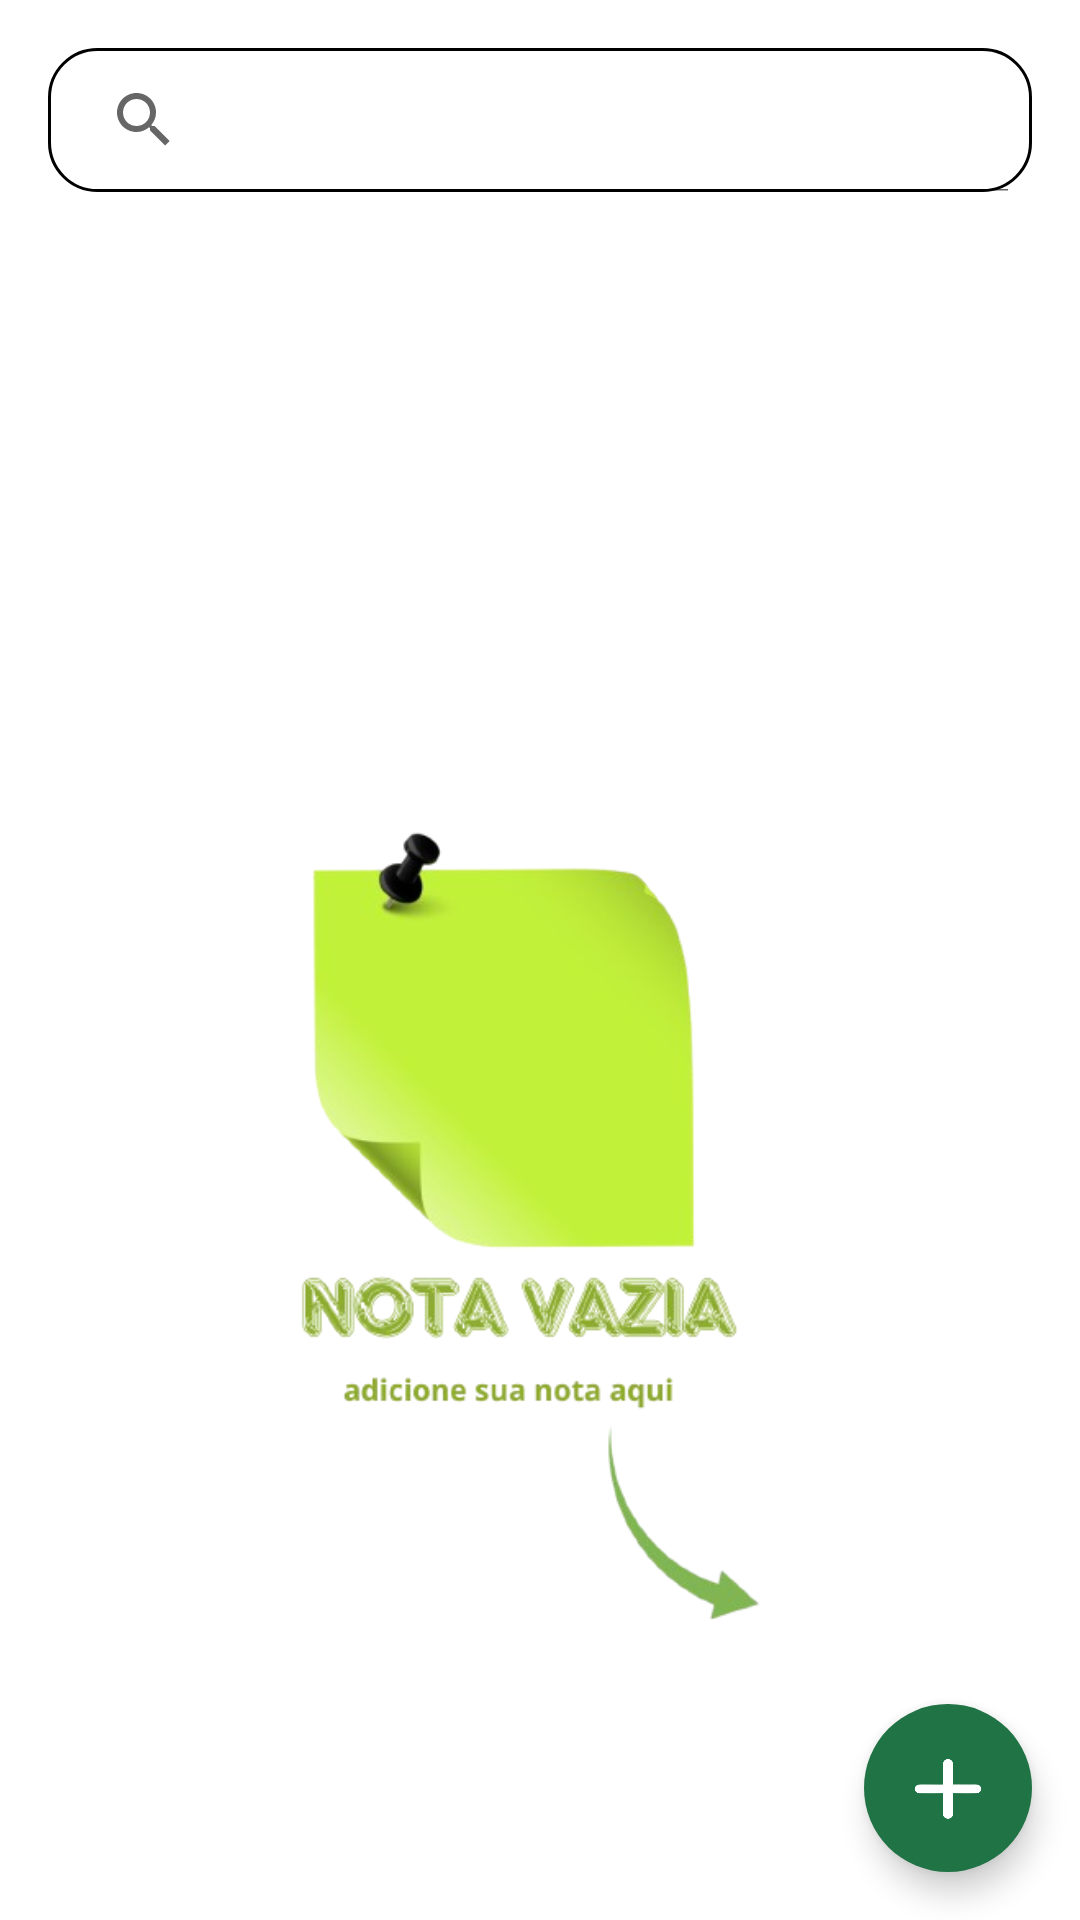

Icon click points for this 1080x1920 phone screenshot, format (x=x, y=y):
iconinsert: (x=948, y=1788)
